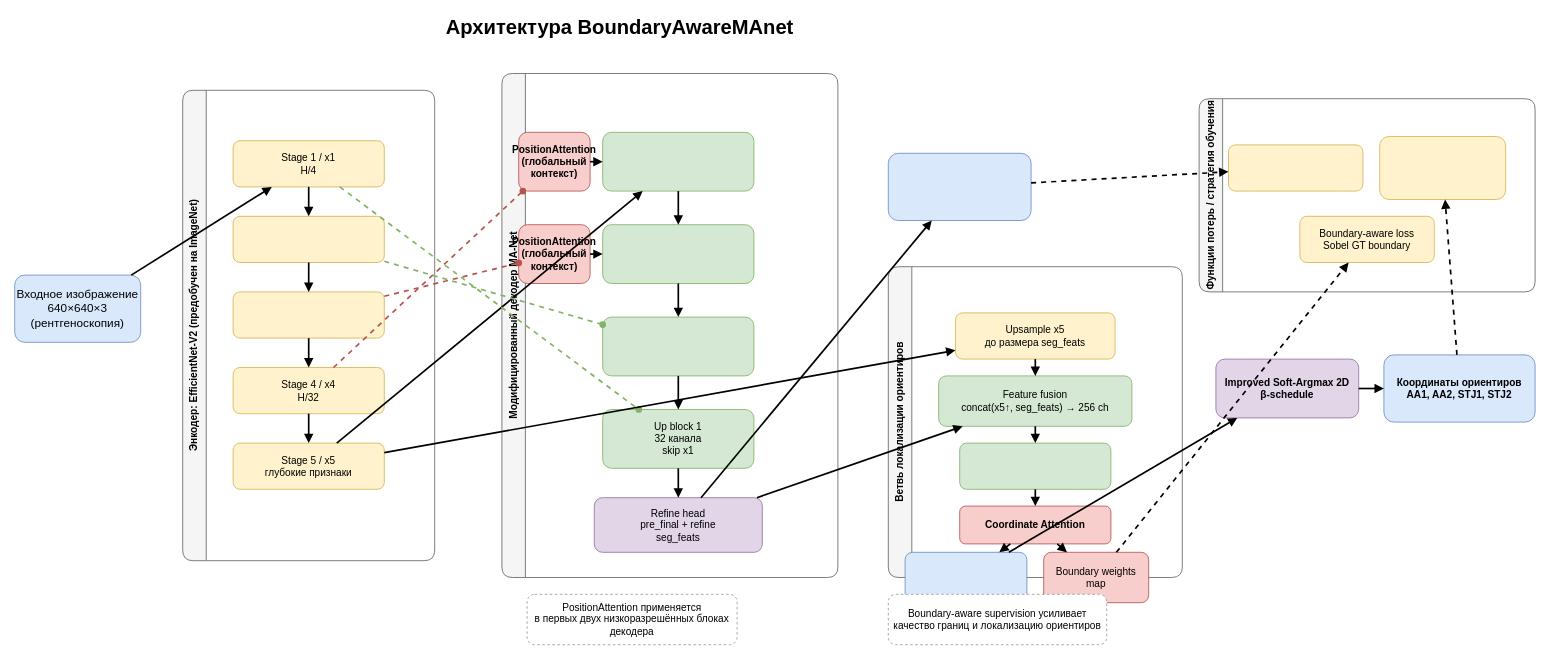
The diagram is 1550 pixels wide and 659 high, and some of its shapes have lost their labels. Each missing label, with the centre of its shape:
"4 heatmaps (AA1, AA2, STJ1, STJ2)" belongs at point (965, 577).
"ImprovedPointLoss heatmap focal + coord loss + consistency loss" belongs at point (1442, 168).
"Point conv block (2 × 3×3 conv)" belongs at point (1035, 465).
"Stage 2 / x2 H/8" belongs at point (308, 238).
"Stage 3 / x3 H/16" belongs at point (308, 314).
"Up block 2 64 канала skip x2" belongs at point (678, 346).
"Up block 3 128 каналов skip x3" belongs at point (678, 254).
"Up block 4 256 каналов skip x4" belongs at point (678, 161).
"Выход сегментации Маска корня аорты" belongs at point (959, 186).
"Сегментация Focal/BCE + Dice loss" belongs at point (1295, 167).
